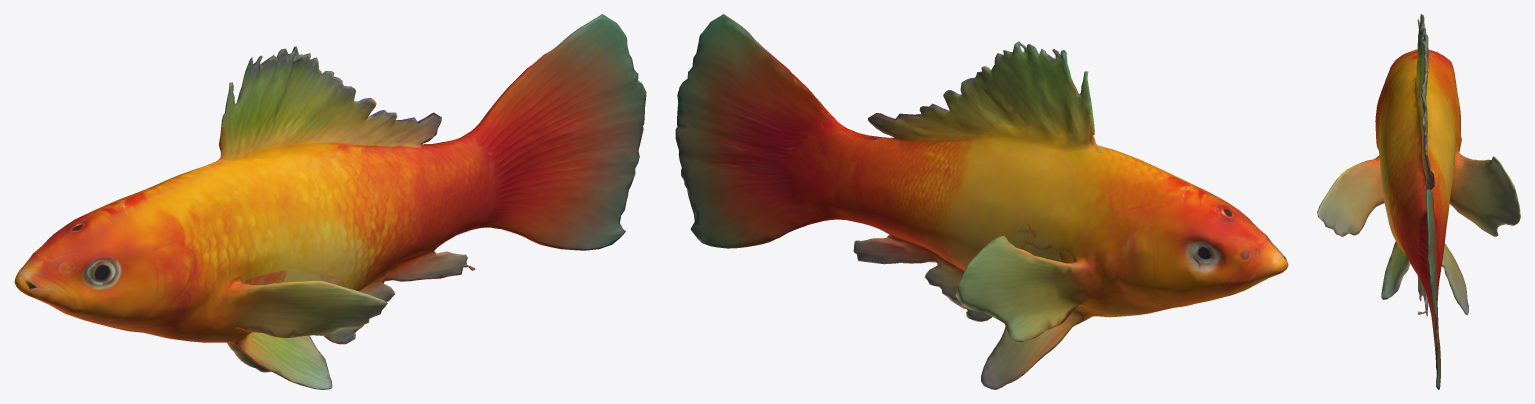
Rendered from platy_sunset_0604072939_texture.glb.
3 views of the same model, side by side, from view 1: azimuth 30°, elevation 25°; view 2: azimuth 150°, elevation 25°; view 3: azimuth 270°, elevation 25° (orthographic). The views are drawn at different scales.
Size of the model in its own units: 2 by 1.05 by 0.69.
1 material, 1 textured.
